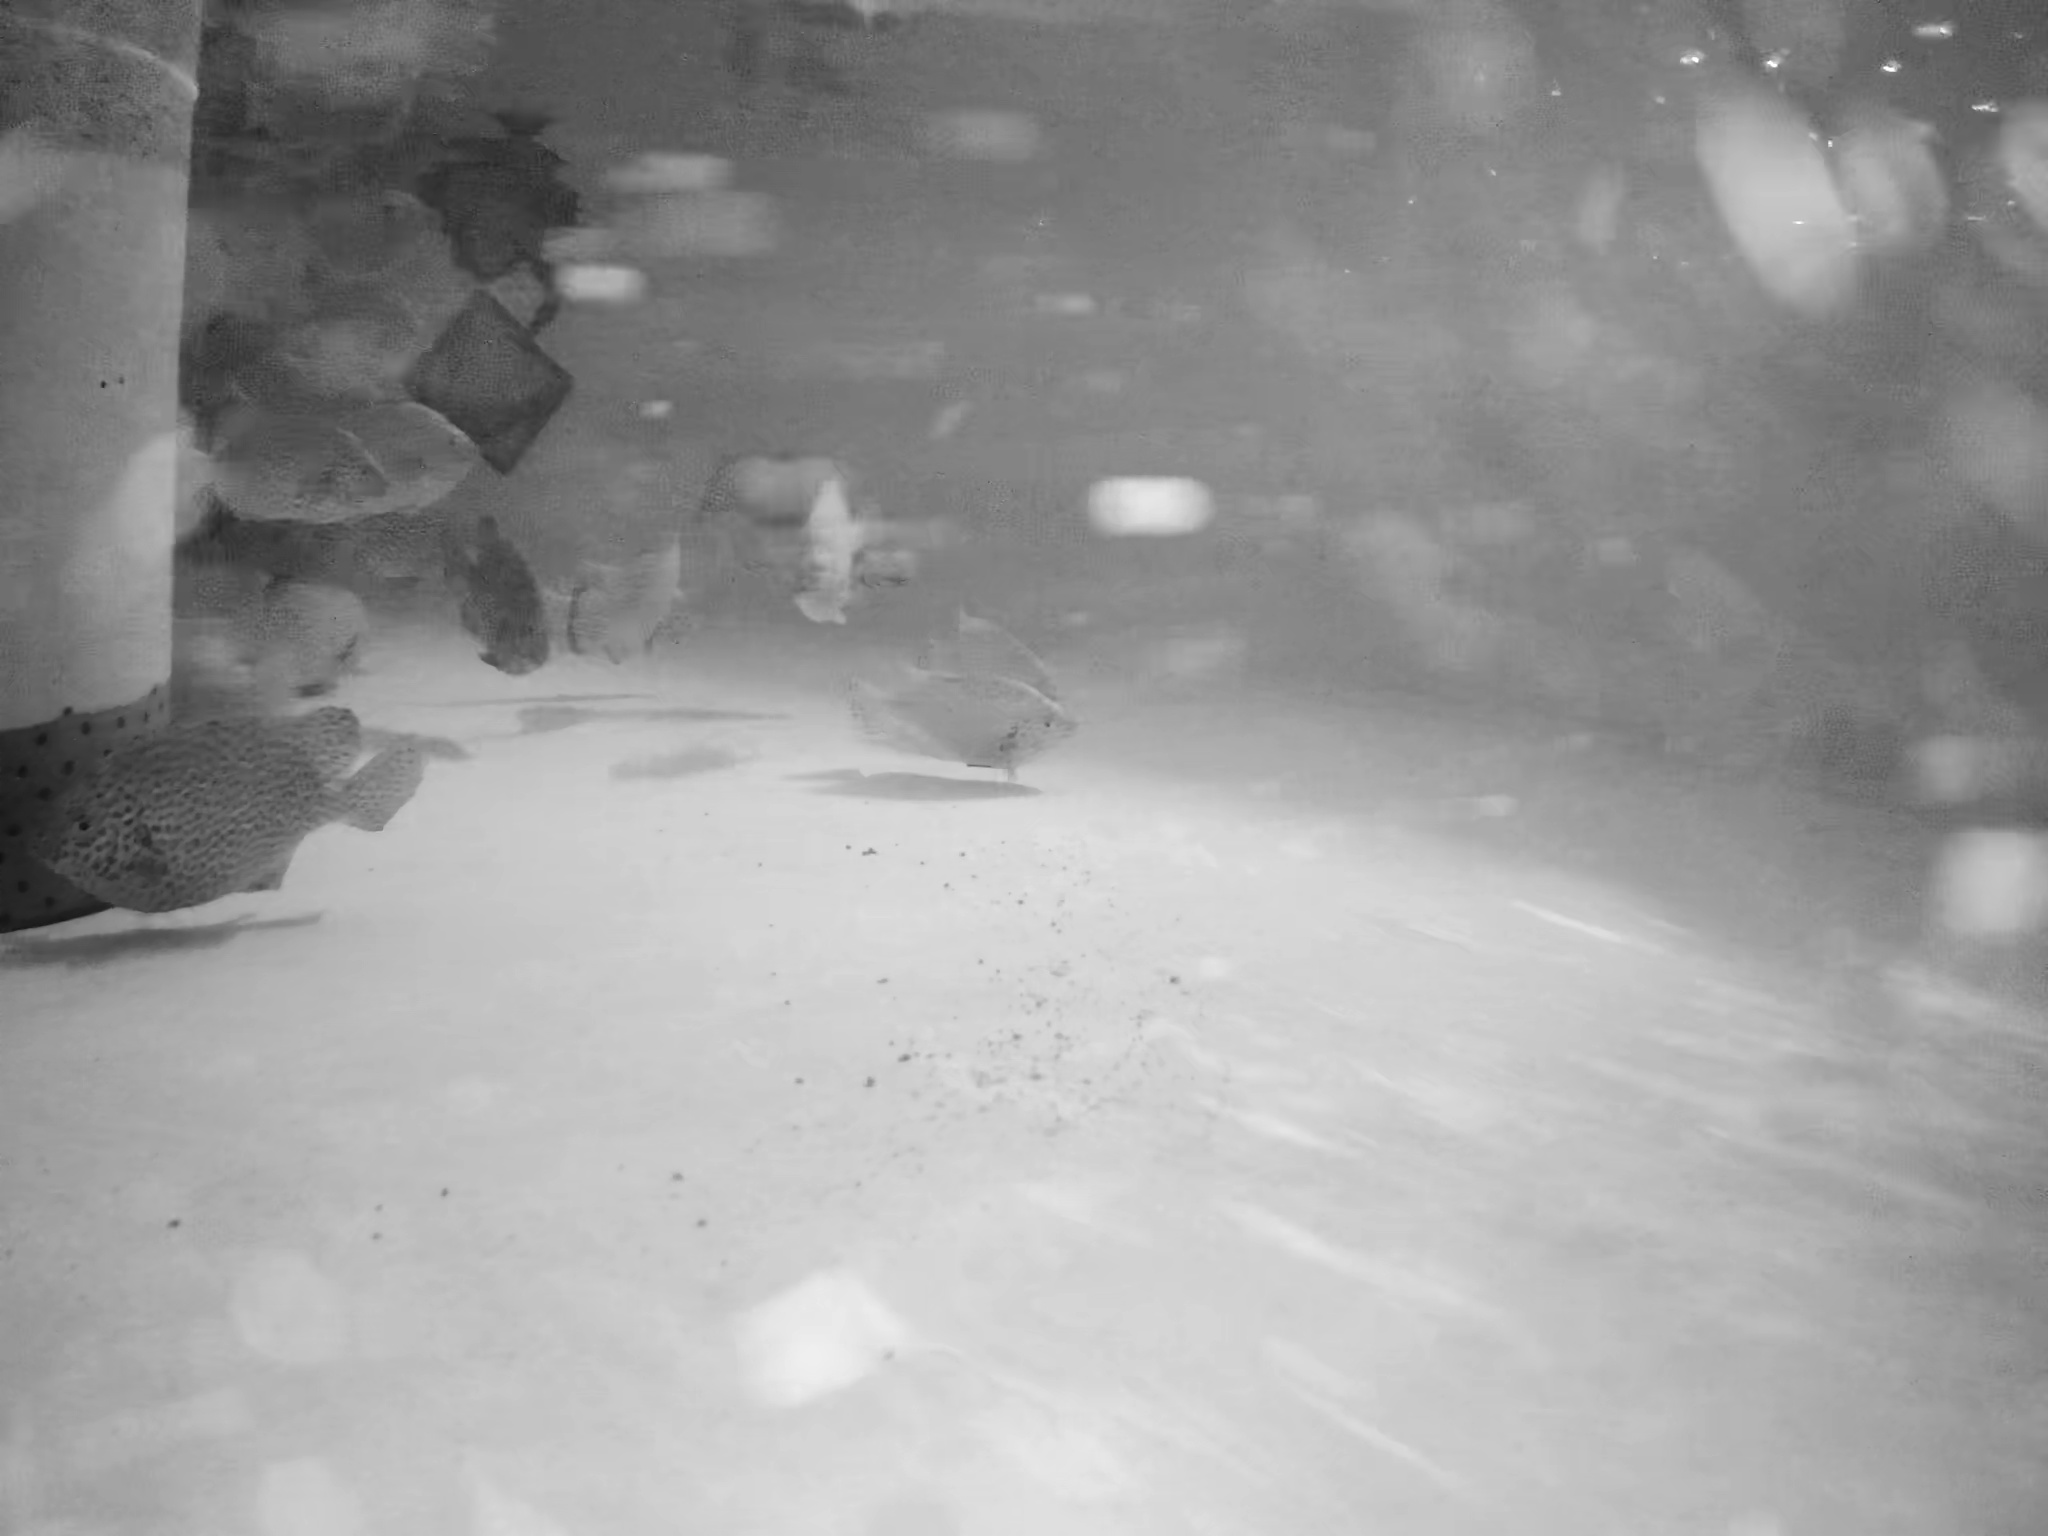fish: (48, 703, 464, 894), (855, 657, 1138, 824), (214, 386, 514, 542), (552, 532, 737, 691), (431, 510, 560, 695), (776, 478, 930, 623), (232, 573, 373, 715), (285, 286, 455, 395), (689, 431, 863, 536)
